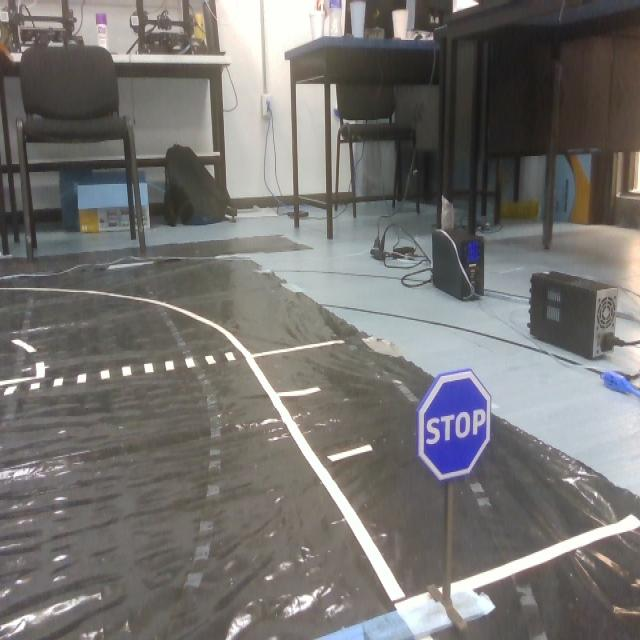no_entry: (421, 371, 498, 486)
